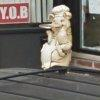Statue: (28, 3, 81, 81)
